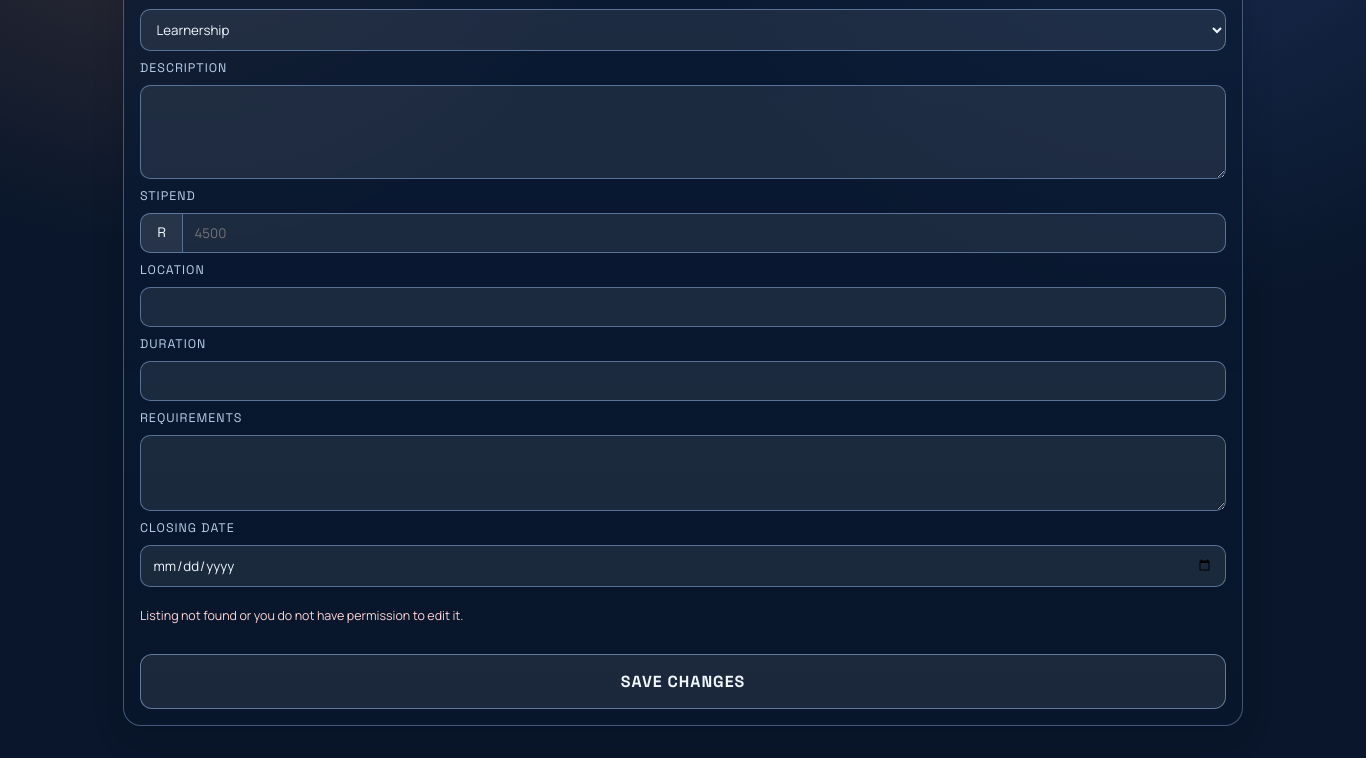
Test: Provider listing edit acceptance tests › shows validation errors for empty fields
(page scrolled)
Click the button "Save changes": x=683, y=681 [140, 654, 1226, 709]
(page scrolled)
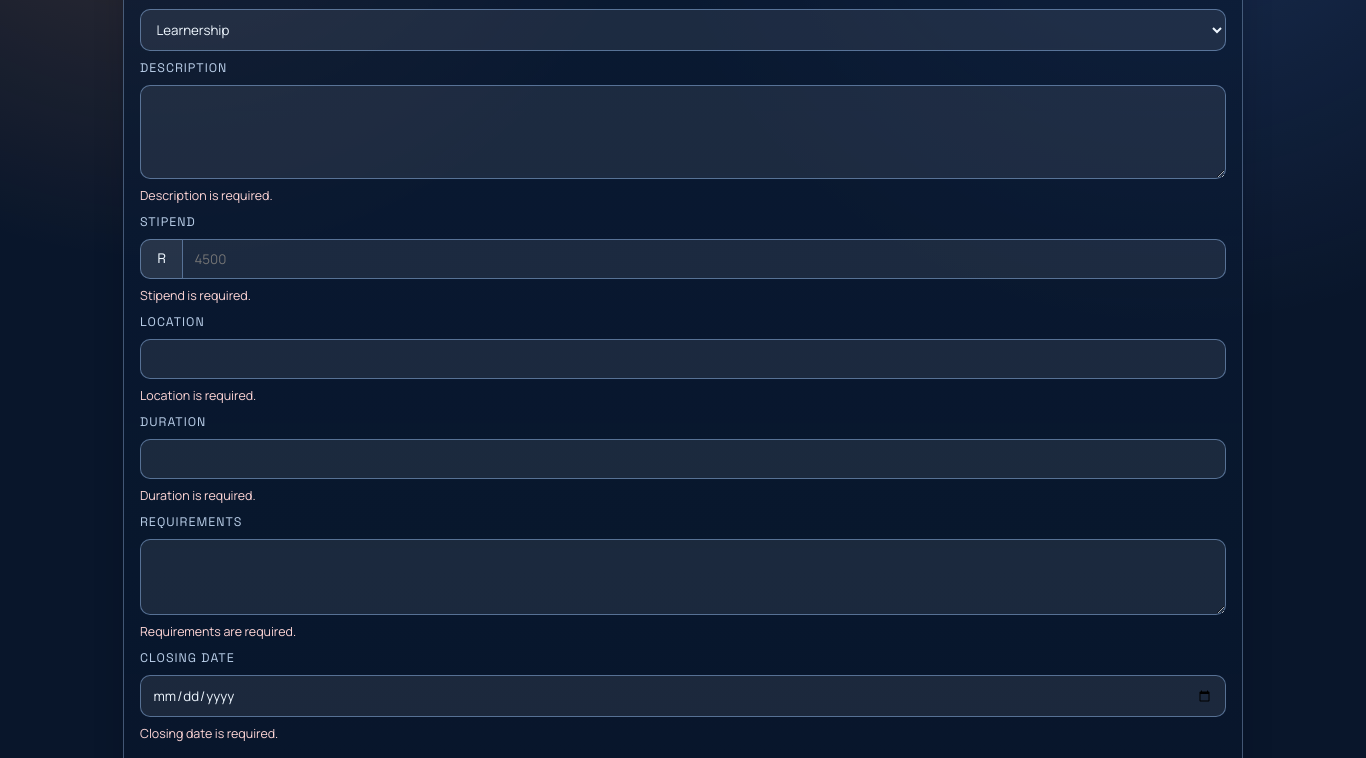
Result: the text "Description is required." is shown at [140, 187, 273, 204]
Result: the text "Location is required." is shown at [140, 387, 256, 404]
Result: the text "Duration is required." is shown at [140, 487, 256, 504]
